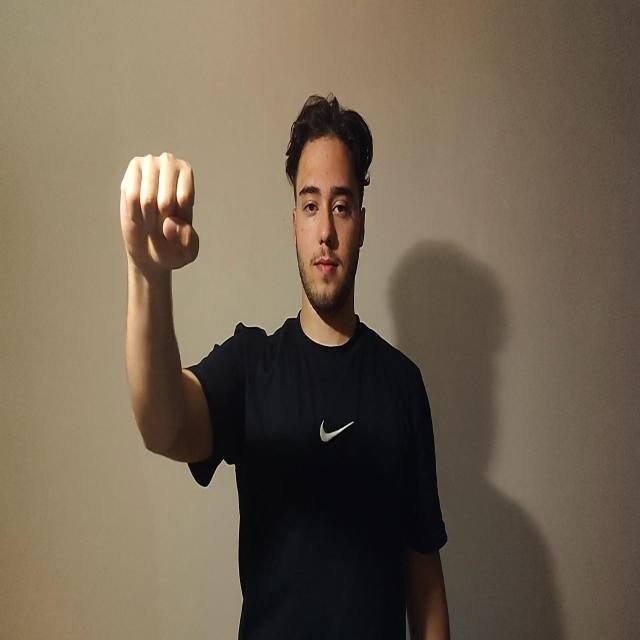yes: (119, 150, 200, 276)
